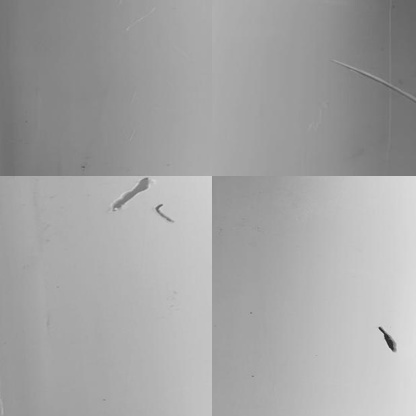kongdong: (376, 320, 404, 360)
sunshang: (328, 60, 416, 107), (107, 176, 177, 228)
